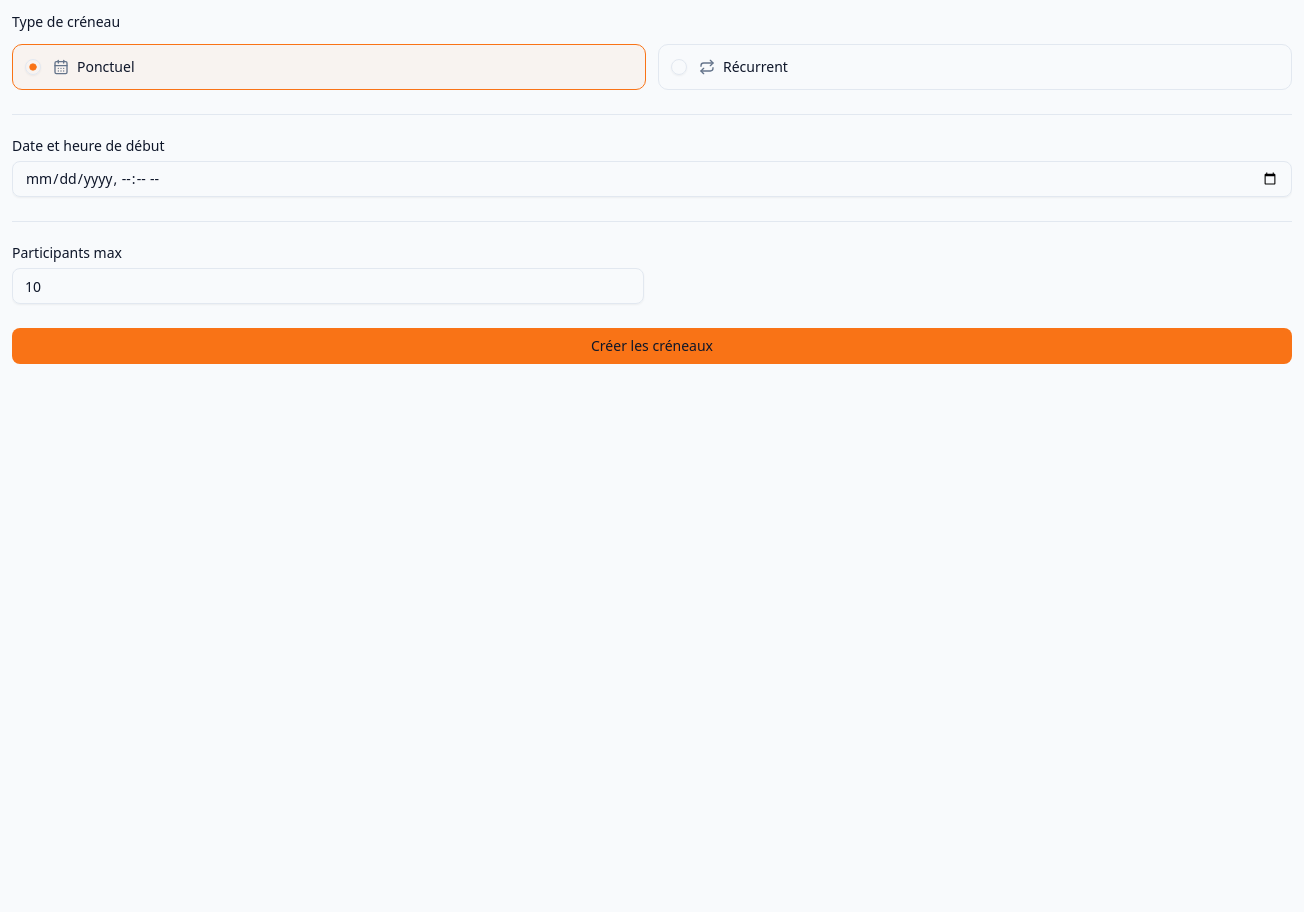
SlotForm — type de créneau › bascule de Ponctuel vers Récurrent puis revient sur Ponctuel
Click the text "Récurrent". click: (755, 67)
box: left=723, top=57, right=788, bottom=77
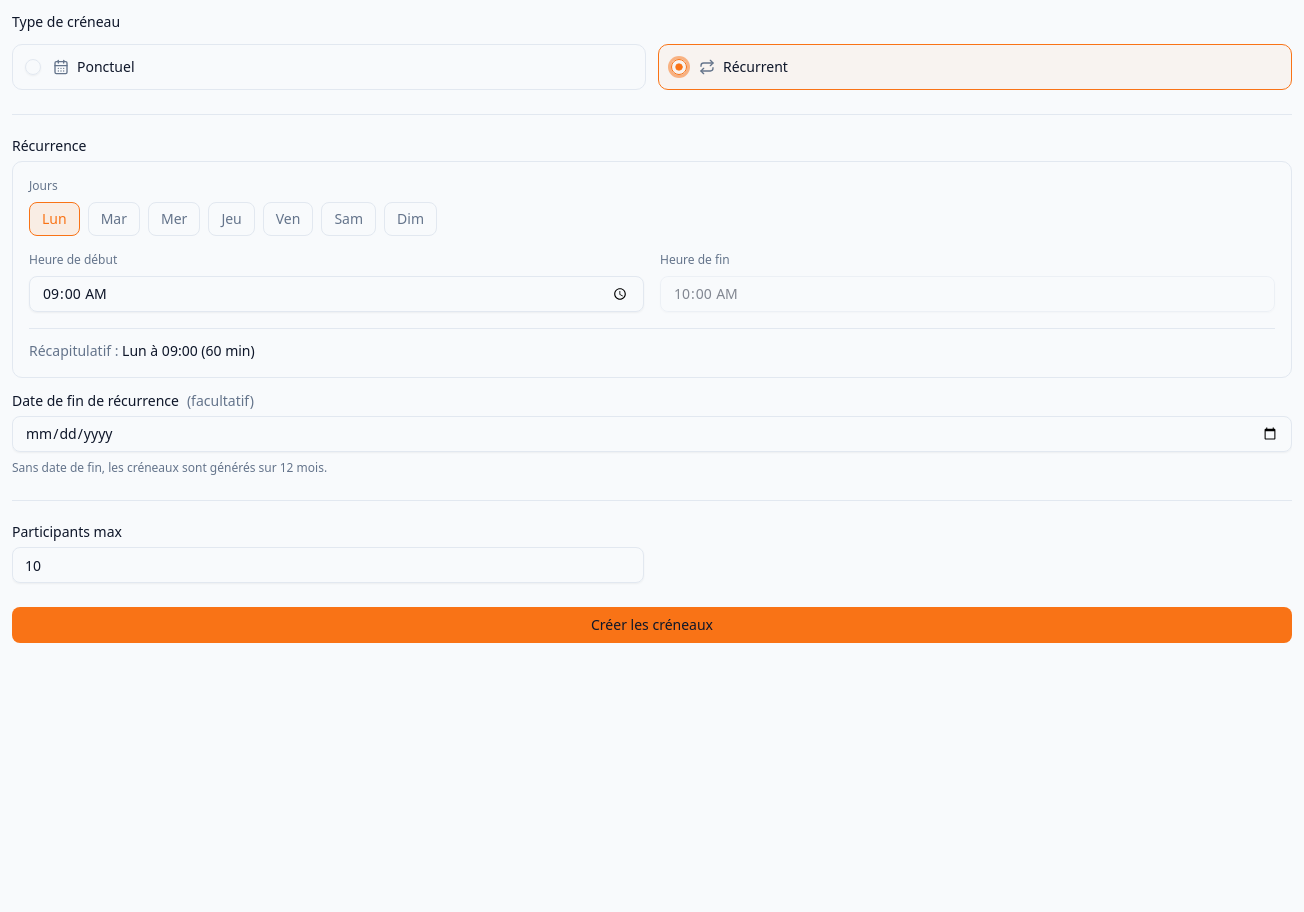
Check: the date field labelled "Date de fin de récurrence (facultatif)" is shown, box left=12, top=416, right=1292, bottom=452
Click the text "Ponctuel". click: (106, 67)
box: left=77, top=57, right=134, bottom=77
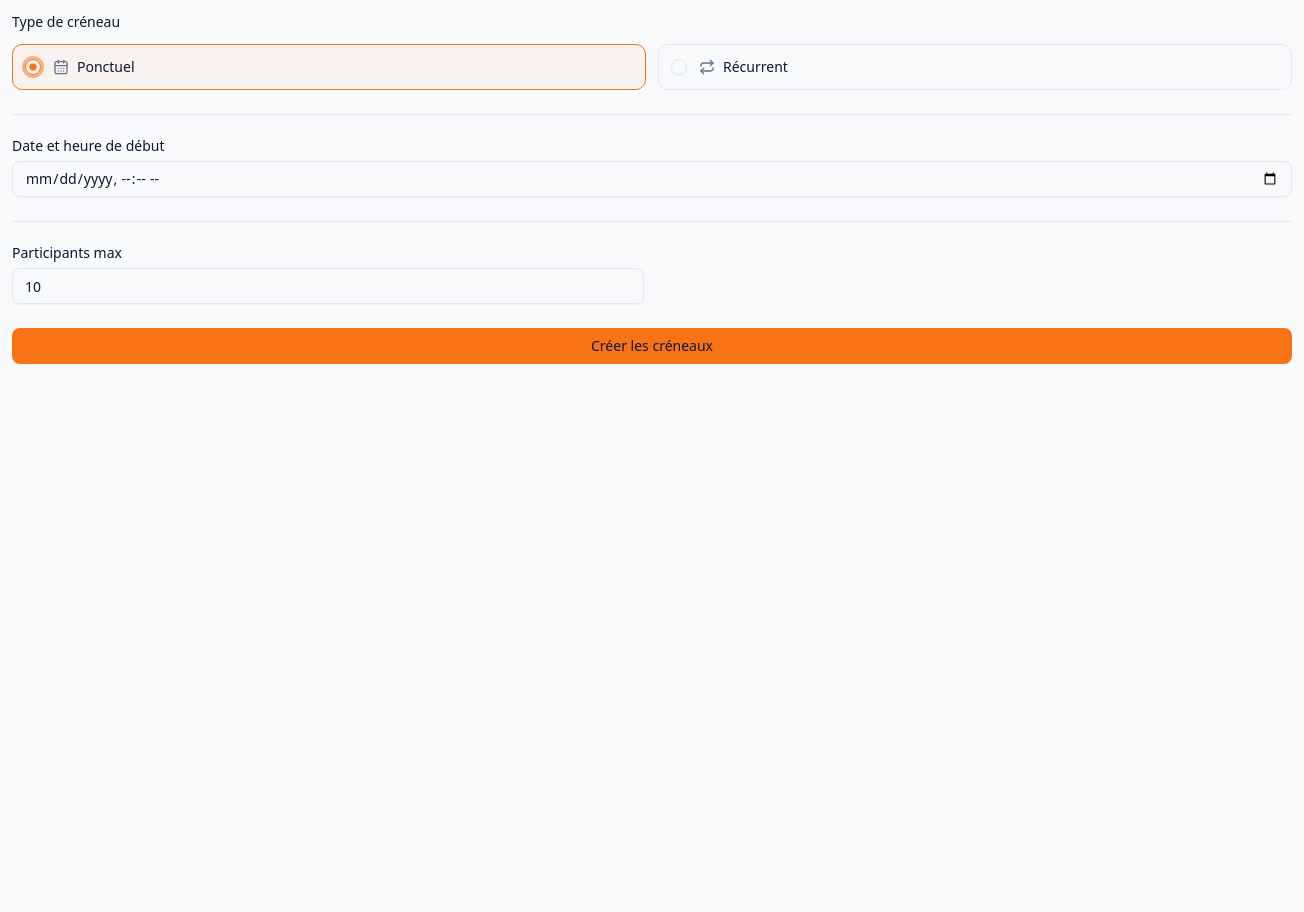
Check: the label labelled "Date de fin de récurrence" is gone
Check: the field labelled "Date et heure de début" is shown, box left=12, top=161, right=1292, bottom=197
